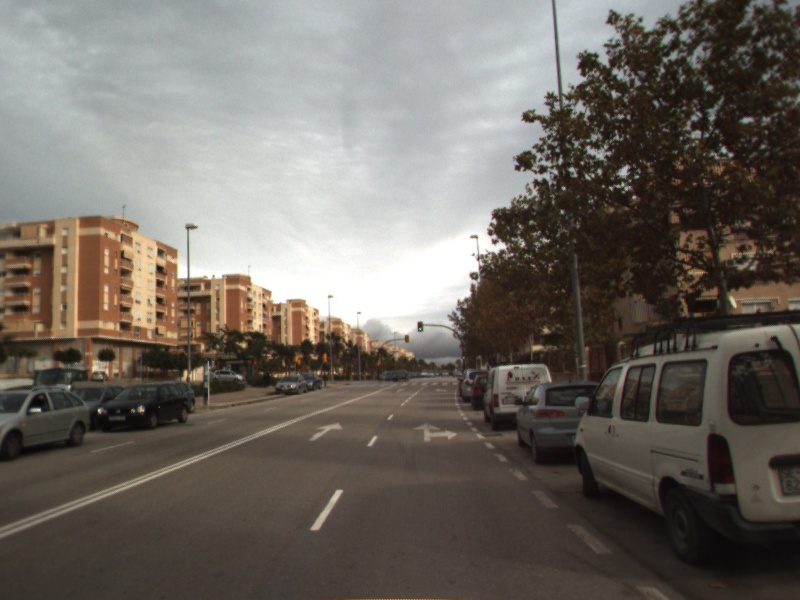STRAIGHT: (305, 420, 345, 443)
STRAIGHT_RIGHT: (411, 420, 460, 443)
